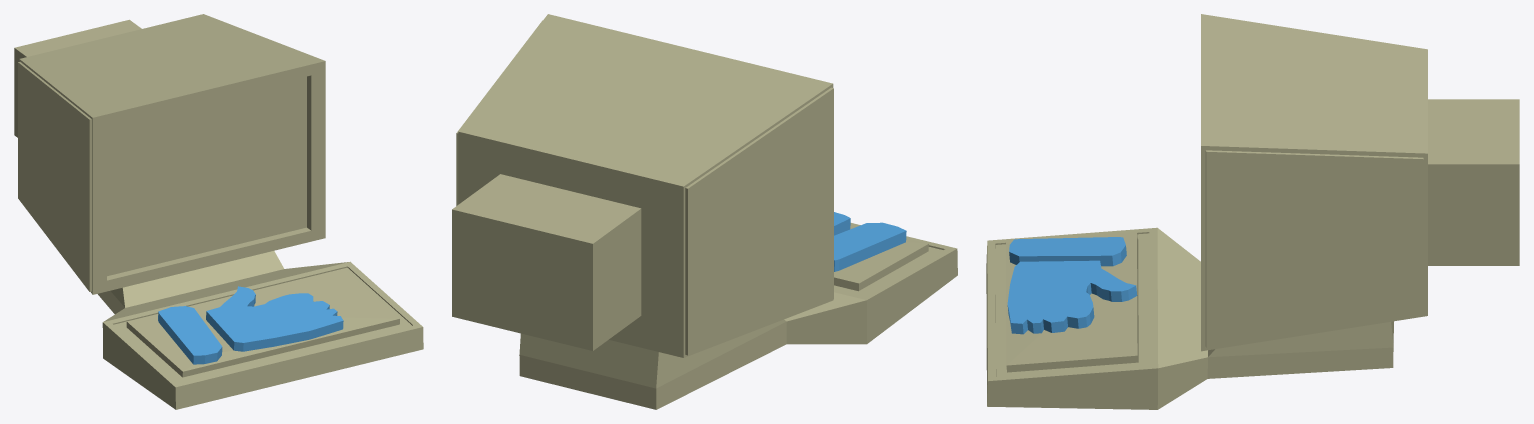
File: smash that like button.fbx
The picture shows the model from 3 angles, left to right: view 1: azimuth 30°, elevation 25°; view 2: azimuth 150°, elevation 25°; view 3: azimuth 270°, elevation 25°; orthographic projection. The views are drawn at different scales.
Visible parts, largest first — view 1: PC, button; view 2: PC, button; view 3: PC, button.
Boxes of the visible parts, x1,y1,x2,y2 form: PC: [14, 14, 423, 409]; button: [126, 268, 399, 377]; PC: [452, 14, 957, 409]; button: [834, 212, 928, 291]; PC: [986, 14, 1519, 409]; button: [1006, 232, 1138, 372].
Size of the model in its own units: 294 by 254 by 470.
